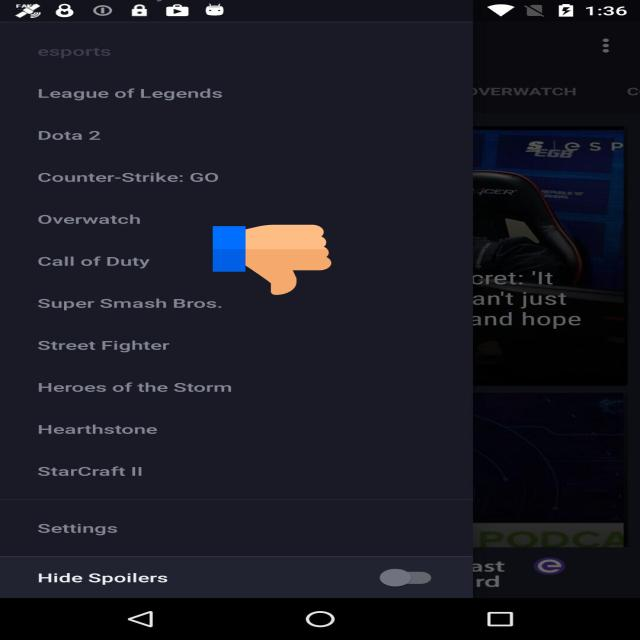obstruction: (213, 223, 331, 297)
